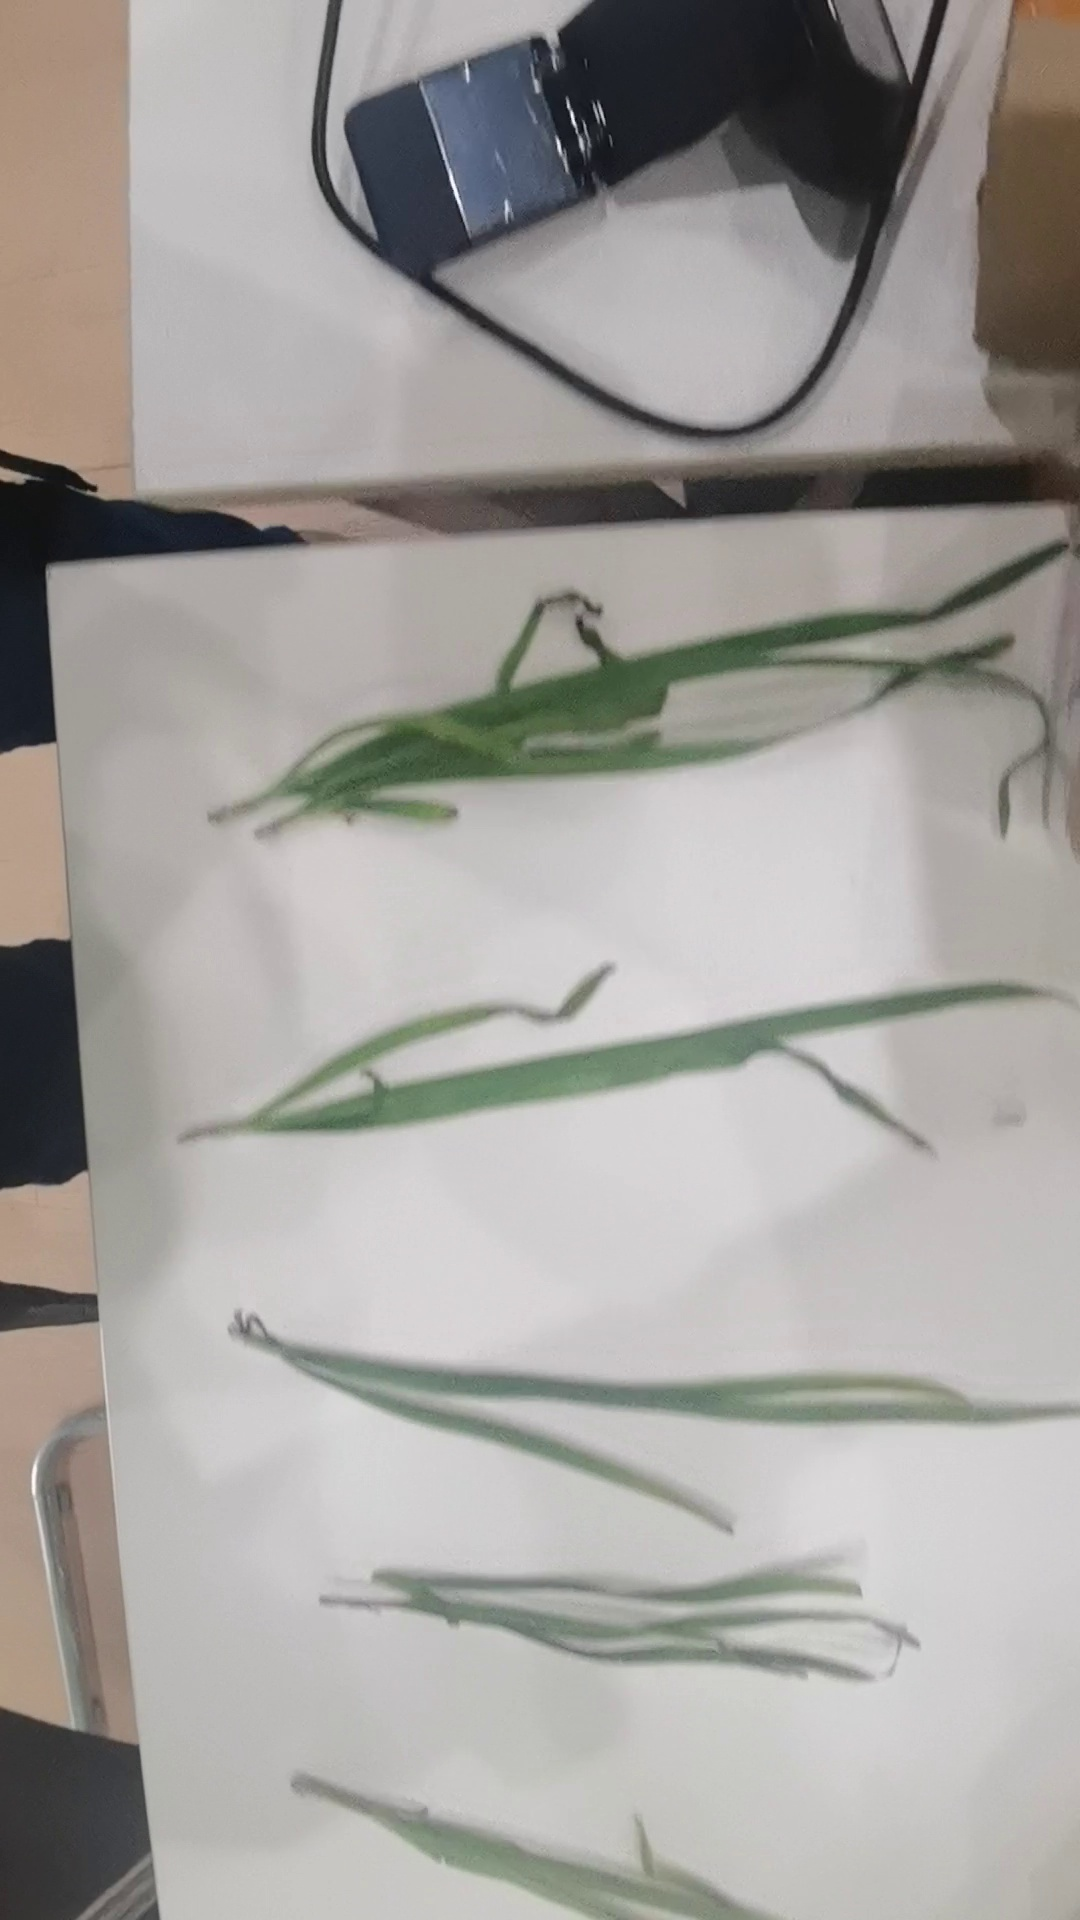chives: (206, 553, 1080, 862), (179, 923, 1080, 1172), (218, 1298, 1080, 1527), (237, 1727, 910, 1920), (299, 1519, 906, 1725)
